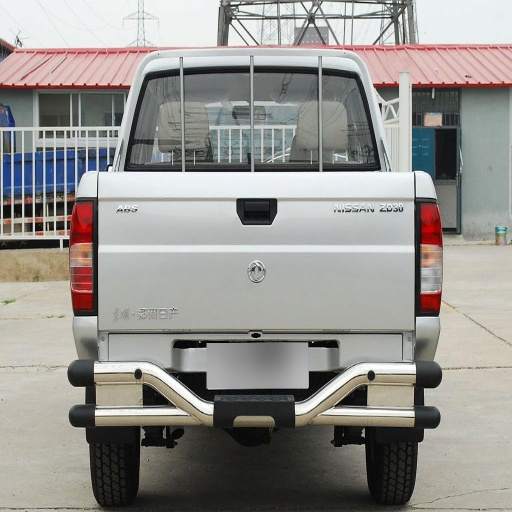back_bumper: (91, 348, 419, 426)
trunk: (99, 173, 420, 362)
